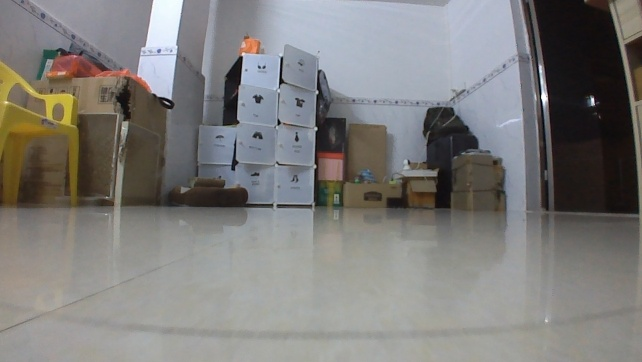door_anno: (524, 0, 610, 218)
